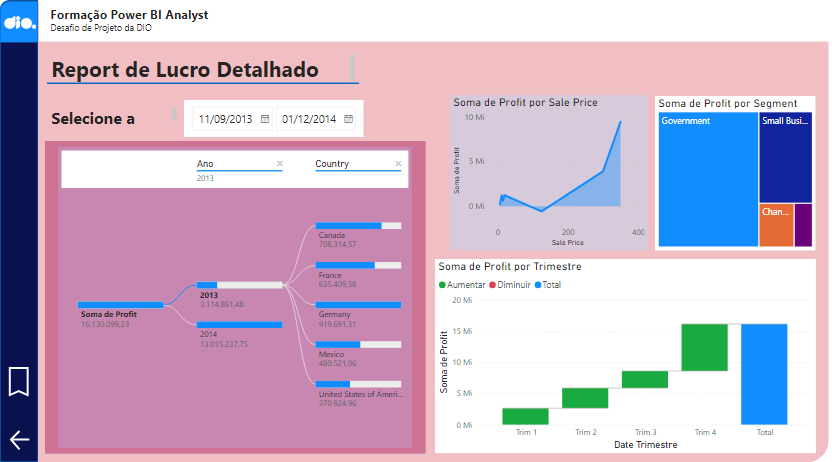

What the dashboard file says about the page in this screenshot:
{"tool":"powerbi","page":{"name":"Página 2","canvas":[1280,720],"ordinal":1},"visuals":[{"type":"shape","box":[42.6,20.7,1225.3,699.3],"z":0},{"type":"shape","box":[83.9,127.8,473,37.1],"z":0,"group":"g1"},{"type":"slicer","fields":{"Values":["financials.Date"]},"box":[290.1,171.2,272.2,55.6],"z":0,"group":"g2"},{"type":"shape","box":[12.4,20.2,57.7,699.8],"z":1000},{"type":"textbox","box":[85.3,97.6,470.2,52.2],"z":1000,"group":"g1"},{"type":"textbox","box":[84.8,176.9,199.6,45.6],"z":1000,"group":"g2"},{"type":"shape","box":[12.4,20.6,57.7,63.2],"z":2000},{"type":"actionButton","box":[576.6,175.5,59.9,51.3],"z":2000,"group":"g2"},{"type":"image","box":[13.7,33,57.7,39.9],"z":3000},{"type":"shape","title":"Fundo do Título","box":[71.5,20.6,1198.9,61.9],"z":4000},{"type":"textbox","title":"Título do report","box":[83.9,22,378.1,63.2],"z":5000},{"type":"shape","box":[79.7,233.7,576.1,473],"z":6000},{"type":"decompositionTreeVisual","fields":{"Analyze":["Sum(financials.Profit)"],"ExplainBy":["financials.Date.Variation.Hierarquia de datas.Ano","financials.Country"]},"box":[99.8,242.2,536.3,456.5],"z":7000},{"type":"waterfallChart","fields":{"Category":["financials.Date.Variation.Hierarquia de datas.Trimestre"],"Y":["Sum(financials.Profit)"]},"box":[670.9,412.5,577.4,294.2],"z":8000},{"type":"treemap","fields":{"Values":["Sum(financials.Profit)"],"Group":["financials.Segment"]},"box":[1005,165,243.4,233.7],"z":9000},{"type":"actionButton","box":[22,666.8,48.1,39.9],"z":10000},{"type":"group","id":"g1","title":"Sales report","box":[83.9,97.6,473,67.4],"z":11000},{"type":"actionButton","box":[12.8,545.8,57,105.5],"z":12000},{"type":"group","id":"g2","title":"Filtro por data","box":[84.8,171.2,551.6,55.6],"z":13000},{"type":"areaChart","fields":{"Y":["Sum(financials.Profit)"],"Category":["financials.Sale Price"]},"box":[693.8,163.6,299.9,234.8],"z":14000}]}

Visuals, with their boxes on the page's 1280x720 design canvas (x1, y1, x2, y2). These are canvas units, not pixel positions in the 832x462 screenshot, which may show the page scaled, cropped or inside an application window:
shape: box=[43, 21, 1268, 720]
shape: box=[84, 128, 557, 165]
slicer - financials.Date: box=[290, 171, 562, 227]
shape: box=[12, 20, 70, 720]
textbox: box=[85, 98, 556, 150]
textbox: box=[85, 177, 284, 222]
shape: box=[12, 21, 70, 84]
actionButton: box=[577, 176, 636, 227]
image: box=[14, 33, 71, 73]
"Fundo do Título" shape: box=[72, 21, 1270, 82]
"Título do report" textbox: box=[84, 22, 462, 85]
shape: box=[80, 234, 656, 707]
decompositionTreeVisual - Sum(financials.Profit) x financials.Date.Variation.Hierarquia de datas.Ano: box=[100, 242, 636, 699]
waterfallChart - financials.Date.Variation.Hierarquia de datas.Trimestre x Sum(financials.Profit): box=[671, 412, 1248, 707]
treemap - Sum(financials.Profit) x financials.Segment: box=[1005, 165, 1248, 399]
actionButton: box=[22, 667, 70, 707]
"Sales report" group: box=[84, 98, 557, 165]
actionButton: box=[13, 546, 70, 651]
"Filtro por data" group: box=[85, 171, 636, 227]
areaChart - Sum(financials.Profit) x financials.Sale Price: box=[694, 164, 994, 398]
